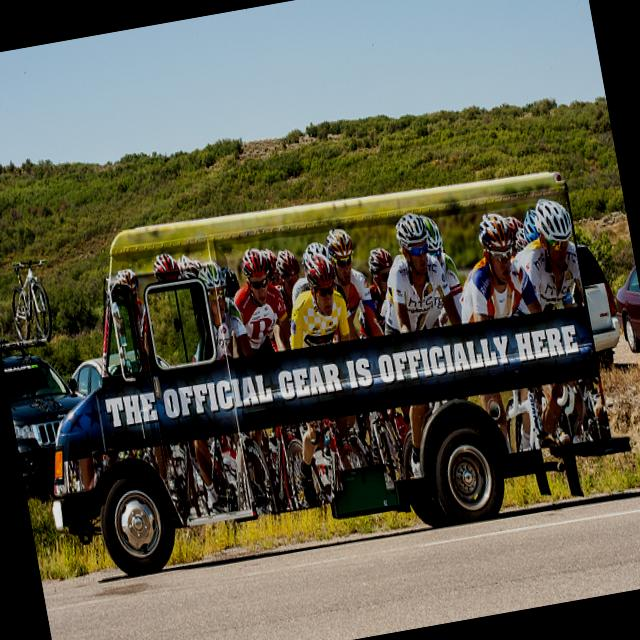Vehicle: (6, 147, 640, 590), (2, 340, 97, 501), (578, 239, 625, 367), (608, 269, 640, 355)
